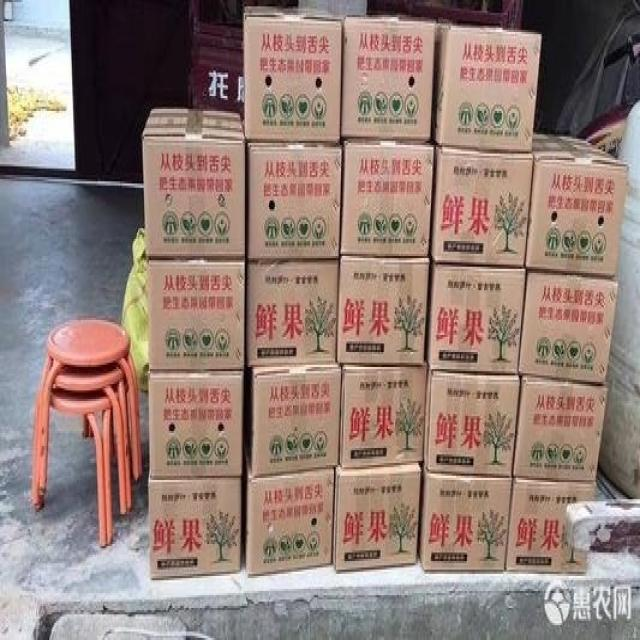box: (142, 107, 246, 262), (430, 23, 542, 156), (527, 132, 628, 277), (429, 145, 533, 267), (341, 15, 436, 145), (246, 9, 341, 139), (246, 141, 346, 262), (426, 260, 528, 378), (241, 452, 335, 576), (520, 271, 620, 386), (146, 256, 246, 369), (341, 139, 433, 256), (424, 369, 522, 476), (150, 369, 246, 478), (337, 256, 431, 367), (245, 365, 342, 471), (246, 258, 340, 365), (418, 467, 513, 572), (513, 378, 605, 484), (333, 465, 421, 574), (149, 476, 243, 578), (340, 367, 430, 469), (506, 476, 594, 574)
